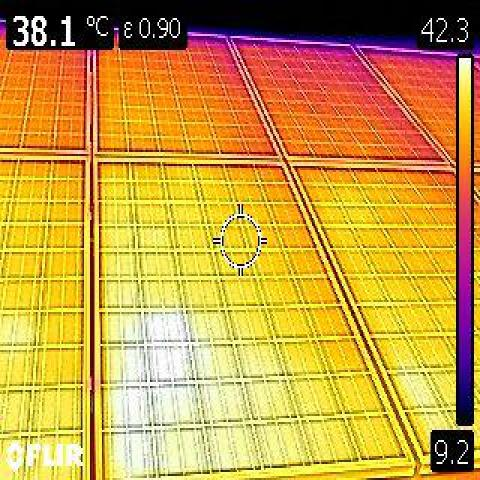fault: (110, 315, 200, 480)
